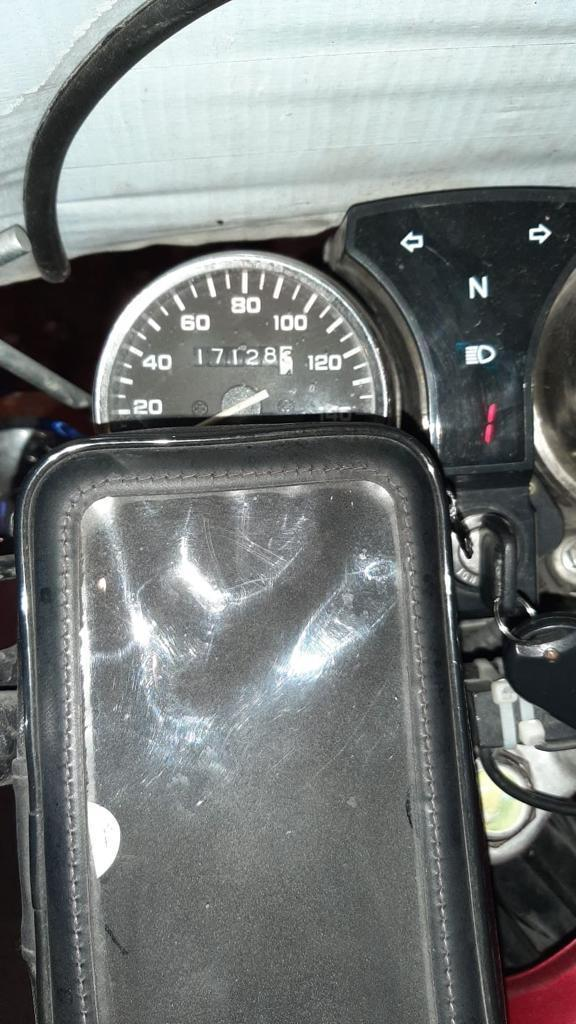1: (197, 348, 203, 365), (232, 348, 237, 365)
2: (245, 348, 259, 365)
3: (281, 348, 294, 363)
7: (210, 347, 223, 364)
8: (263, 345, 276, 363)
odometer: (191, 343, 296, 378)
